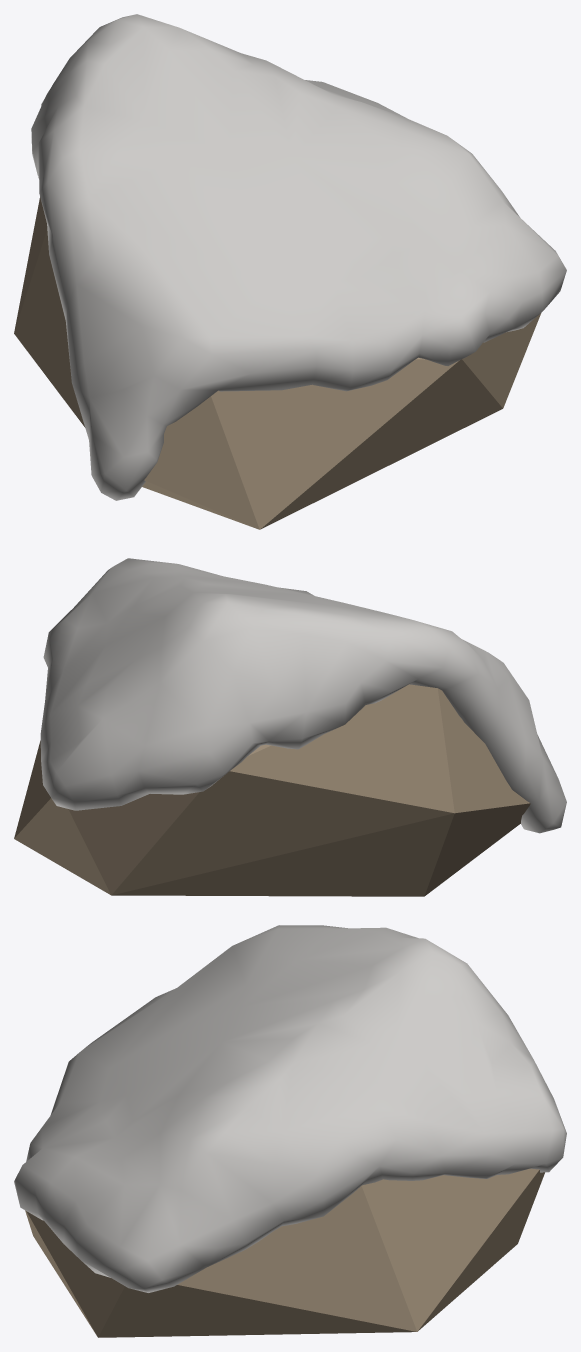
File: Rock_w_Snow_001.fbx
3 views of the same model, one above another, from view 1: azimuth 30°, elevation 25°; view 2: azimuth 150°, elevation 25°; view 3: azimuth 270°, elevation 25° (orthographic). The views are drawn at different scales.
Parts seen in each view (by area): view 1: Rock_w_Snow.001; view 2: Rock_w_Snow.001; view 3: Rock_w_Snow.001.
Boxes of the visible parts, bbox=[...] form: Rock_w_Snow.001: bbox=[14, 14, 566, 529]; Rock_w_Snow.001: bbox=[14, 558, 566, 896]; Rock_w_Snow.001: bbox=[14, 925, 566, 1337].
Size of the model in its own units: 623 by 451 by 658.
